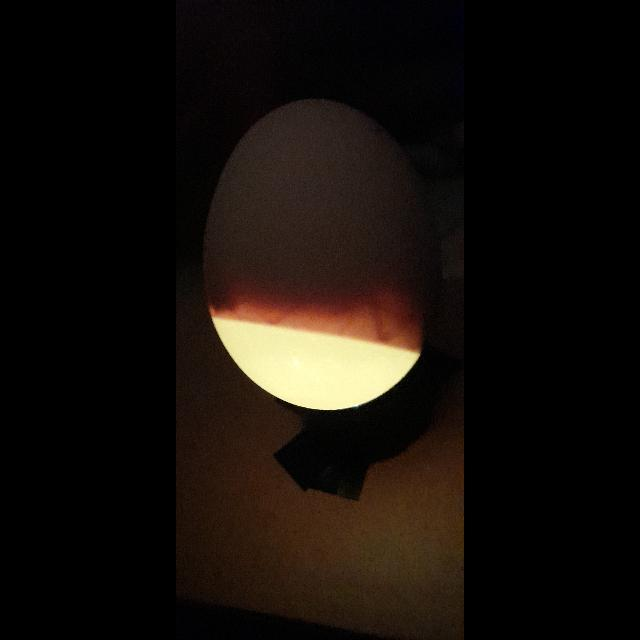Fertile: (204, 96, 428, 420)
